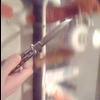melee: (20, 18, 74, 63)
